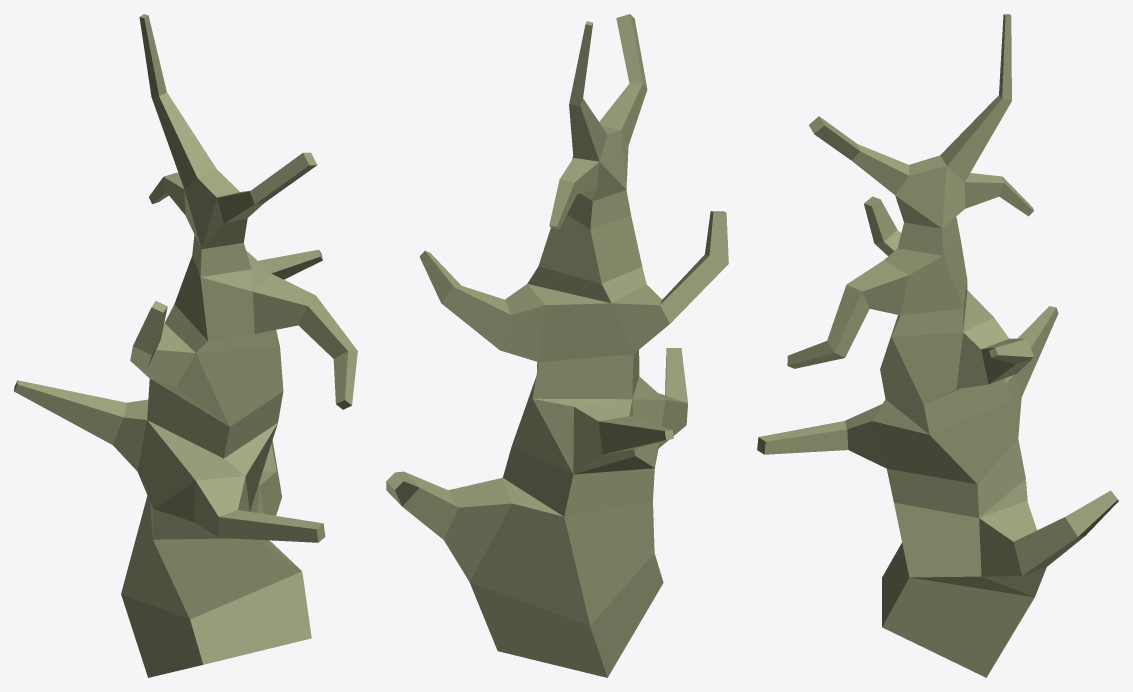
3 renders of one model, left to right at view 1: azimuth 30°, elevation 25°; view 2: azimuth 150°, elevation 25°; view 3: azimuth 270°, elevation 25°, orthographic. The views are drawn at different scales.
Parts seen in each view (by area): view 1: Root; view 2: Root; view 3: Root.
Boxes of the visible parts, <box> form: Root: <box>14,14,357,677</box>; Root: <box>386,14,728,677</box>; Root: <box>757,14,1118,677</box>.
Size of the model in its own units: 13.46 by 30.06 by 15.98.
